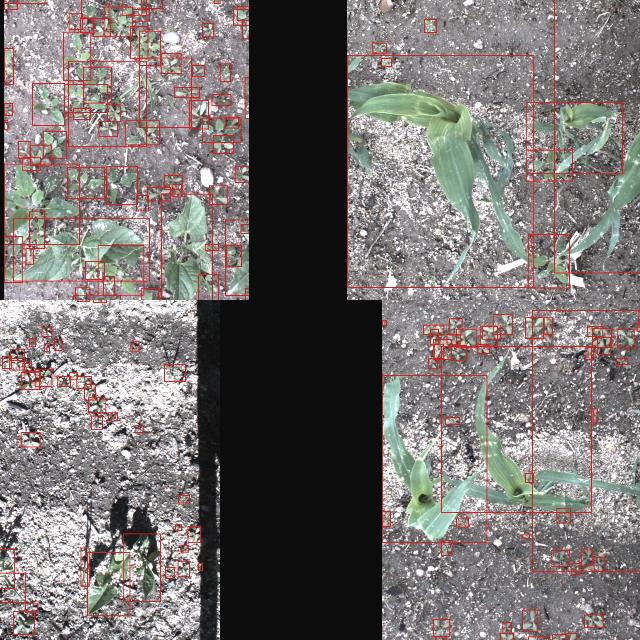crop: (346, 54, 532, 286), (531, 309, 640, 571), (441, 346, 591, 512), (553, 0, 640, 272), (382, 374, 486, 542), (13, 218, 149, 280), (526, 101, 622, 172), (160, 192, 211, 300), (86, 552, 130, 614), (122, 534, 160, 600), (225, 219, 249, 295), (4, 236, 22, 282), (0, 548, 13, 588)
weed: (68, 60, 146, 146), (3, 163, 79, 244), (139, 57, 191, 127), (97, 245, 143, 295), (527, 235, 569, 288), (526, 150, 572, 180), (62, 31, 90, 80), (31, 83, 63, 125), (66, 166, 104, 198), (105, 166, 136, 204), (64, 84, 106, 112), (83, 66, 111, 102), (202, 116, 240, 142), (125, 120, 159, 144), (104, 7, 132, 36), (138, 30, 160, 66), (0, 572, 24, 601), (42, 130, 66, 158), (28, 212, 44, 248), (129, 26, 147, 58), (198, 273, 218, 300), (12, 610, 34, 634), (190, 100, 208, 128), (80, 0, 108, 18), (160, 53, 180, 73), (30, 145, 50, 165), (492, 314, 512, 334), (455, 328, 475, 348), (525, 316, 543, 338), (208, 184, 228, 203), (85, 260, 104, 280), (592, 328, 612, 347), (120, 0, 145, 15), (164, 364, 186, 381), (3, 47, 13, 83), (213, 134, 233, 152), (616, 328, 634, 348), (432, 339, 450, 359), (521, 609, 537, 631), (479, 325, 496, 345), (146, 186, 170, 200), (92, 18, 110, 36), (80, 546, 88, 586), (226, 244, 240, 266), (34, 368, 51, 386), (98, 120, 116, 136), (20, 372, 38, 388), (433, 618, 449, 636), (551, 549, 569, 565), (20, 432, 40, 446), (88, 396, 105, 412), (233, 8, 249, 24), (450, 344, 466, 360), (164, 174, 182, 188), (22, 156, 40, 170), (596, 336, 610, 354), (234, 166, 249, 182), (174, 87, 198, 97), (140, 287, 158, 300), (106, 104, 120, 120), (68, 13, 82, 29), (448, 318, 462, 334), (17, 140, 29, 158), (102, 276, 114, 294), (584, 614, 602, 626), (481, 326, 499, 338), (74, 286, 89, 300), (423, 324, 443, 334), (212, 94, 230, 105), (72, 108, 90, 119), (556, 508, 570, 522), (132, 8, 148, 20), (136, 194, 148, 210), (188, 526, 200, 542), (580, 549, 592, 565), (220, 63, 230, 81), (84, 383, 95, 399), (8, 358, 24, 369), (237, 6, 249, 20), (80, 18, 92, 32), (140, 0, 161, 8), (423, 18, 435, 32), (76, 376, 90, 388), (178, 560, 188, 576), (586, 326, 602, 336), (10, 348, 24, 359), (441, 540, 452, 554), (192, 64, 204, 76), (226, 116, 238, 128), (90, 416, 102, 428), (433, 342, 442, 358), (543, 316, 551, 334), (202, 22, 212, 36), (371, 42, 385, 52), (24, 602, 38, 612), (594, 557, 604, 571), (446, 333, 460, 343), (25, 247, 33, 263), (381, 510, 389, 526), (430, 328, 438, 344), (242, 20, 249, 38), (171, 184, 181, 196), (58, 375, 70, 385), (28, 371, 40, 381), (3, 0, 16, 9), (444, 416, 458, 424), (1, 356, 10, 368), (477, 343, 489, 352), (499, 632, 512, 640), (41, 326, 51, 336), (524, 472, 534, 482), (3, 102, 11, 114), (166, 566, 174, 578), (571, 562, 579, 574), (456, 518, 468, 526), (585, 347, 593, 359), (22, 362, 31, 372), (502, 622, 511, 632), (428, 358, 437, 368), (552, 634, 566, 640), (240, 223, 249, 232), (380, 58, 390, 66), (178, 494, 188, 502), (53, 339, 61, 349), (130, 341, 138, 351), (527, 636, 547, 640), (205, 244, 218, 250), (615, 358, 627, 364), (565, 633, 575, 640), (180, 544, 188, 552), (108, 412, 116, 420), (28, 338, 36, 346), (592, 408, 596, 422), (434, 635, 445, 640), (136, 424, 142, 432), (69, 372, 77, 378), (3, 119, 7, 129), (44, 342, 48, 352), (175, 524, 181, 530), (198, 562, 202, 570), (521, 534, 529, 538), (636, 323, 640, 331), (381, 320, 385, 324)
